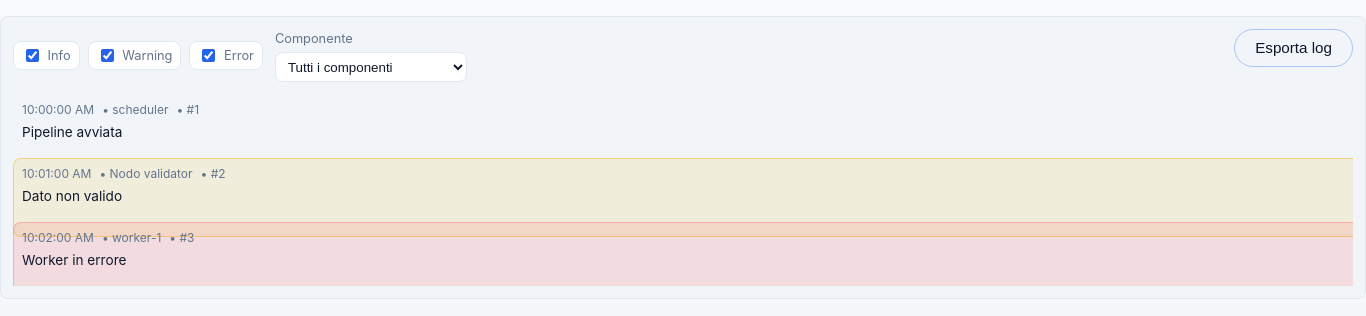
Scenario: LogViewer › permette di filtrare i log per livello
expect the text "Pipeline avviata" is shown: met, box [22,125,122,141]
expect the text "Dato non valido" is shown: met, box [22,189,122,205]
Click the checkbox labelled "Warning": [107, 56] box [101,49,114,62]
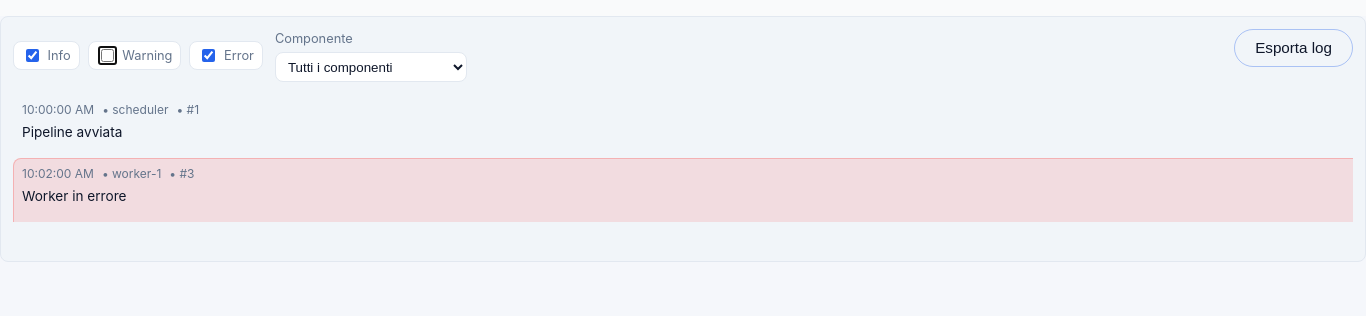
expect the text "Pipeline avviata" is shown: met, box [22,125,122,141]
expect the text "Dato non valido" is not shown: met
